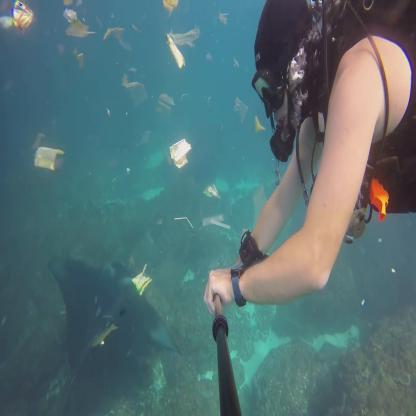Rác: (160, 26, 205, 68), (59, 6, 90, 42), (167, 134, 195, 168), (31, 147, 63, 170), (150, 88, 178, 113), (121, 69, 144, 98), (202, 207, 230, 226), (127, 271, 156, 287), (159, 0, 183, 16), (234, 96, 248, 123), (204, 184, 222, 202), (104, 22, 126, 36)
